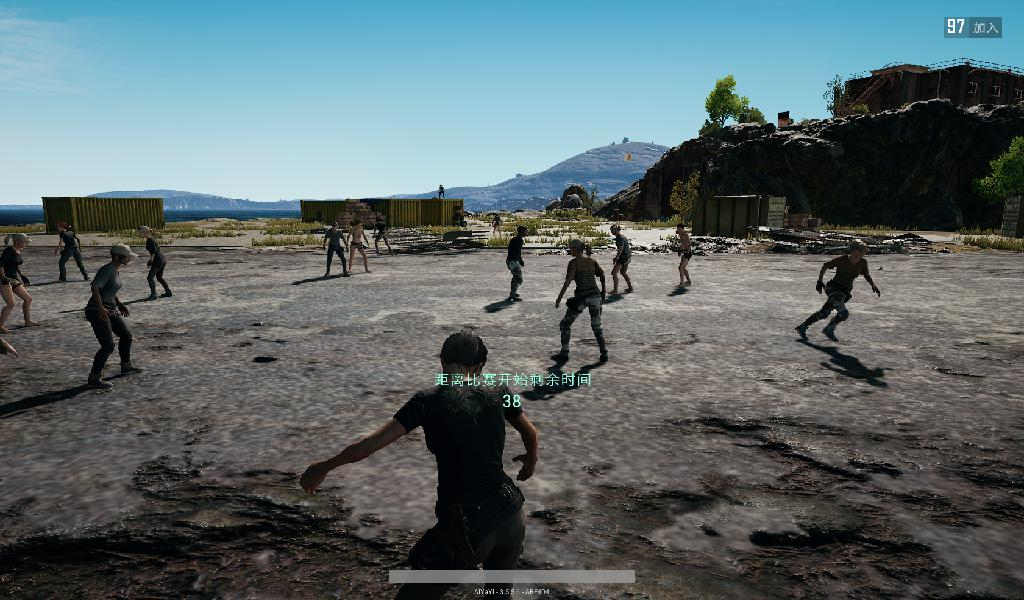Target Person: (299, 330, 538, 600), (84, 244, 142, 395), (553, 238, 607, 363), (1, 232, 38, 330), (138, 225, 173, 303), (52, 217, 90, 284), (505, 223, 529, 304), (608, 223, 633, 296), (324, 221, 348, 277), (347, 217, 369, 277), (673, 220, 691, 292), (370, 212, 392, 256), (491, 212, 504, 240), (437, 183, 447, 201)
